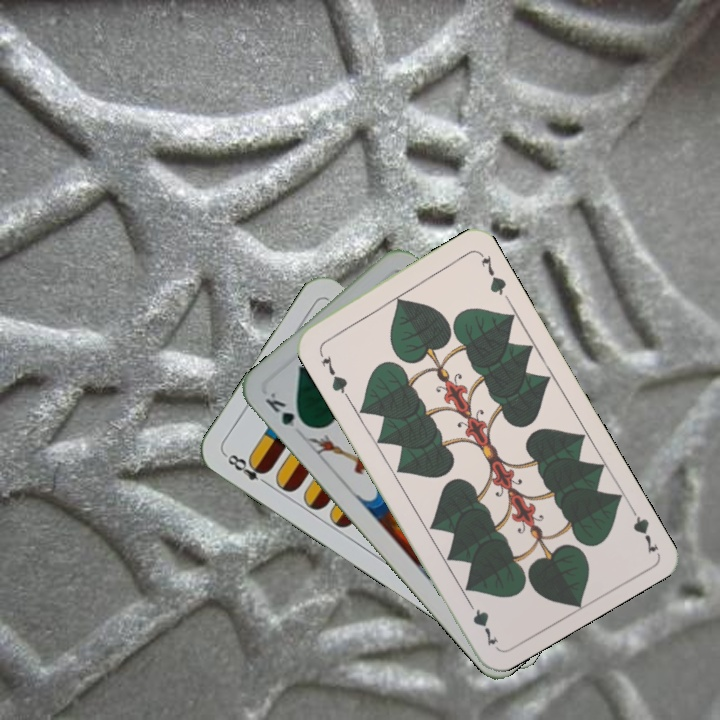E8: (221, 450, 273, 489)
G7: (624, 499, 661, 557), (314, 345, 351, 399)
GK: (260, 388, 311, 431)
